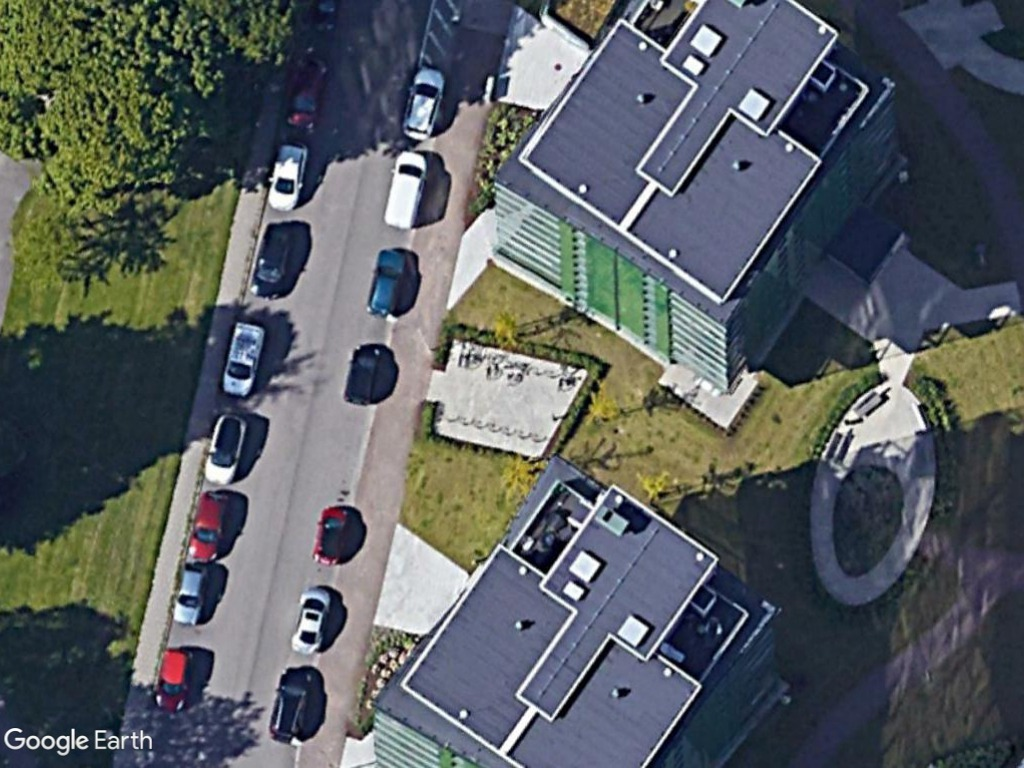car: (281, 50, 332, 136), (398, 63, 449, 147), (261, 135, 311, 215), (249, 217, 296, 302), (186, 487, 237, 565), (200, 411, 250, 490), (364, 245, 414, 319), (169, 557, 219, 631), (291, 582, 337, 661), (151, 640, 196, 719), (341, 340, 391, 405), (313, 499, 354, 570)
van: (382, 147, 431, 231), (219, 317, 266, 400)
